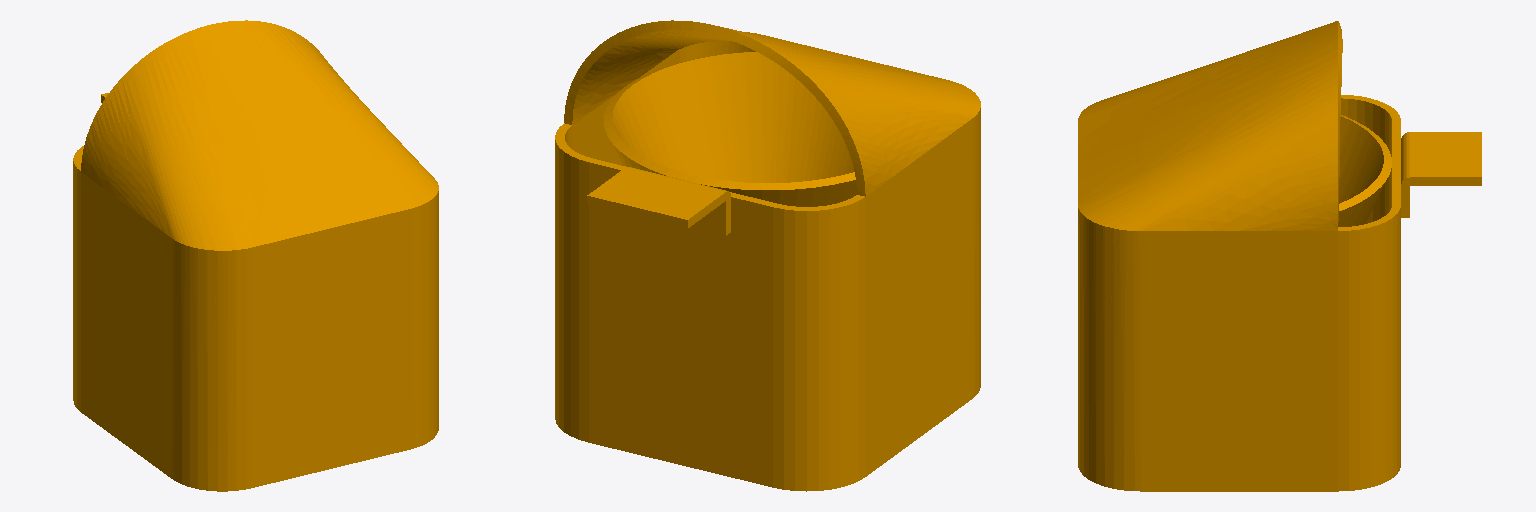
The robot description file, URDF, robot "bin":
<?xml version="1.0"?>

<robot name="bin">

    <link name="base_link" concave="yes">

        <visual>
            <origin xyz="0 0 0" rpy="0 0 0"/>

            <geometry>
                <mesh
                    filename="../meshes/bin.stl"
                    scale="0.01 0.01 0.01"/>
            </geometry>
        </visual>

        <collision concave="yes">
            <origin xyz="0 0 0" rpy="0 0 0"/>

            <geometry>
                <mesh
                    filename="../meshes/bin.stl"
                    scale="0.01 0.01 0.01"/>
            </geometry>
        </collision>

    </link>

</robot>

--- Facts derived from the render (not from the file) ---
Views: 3 orthographic renders of the robot side by side, from view 1: azimuth 30°, elevation 25°; view 2: azimuth 150°, elevation 25°; view 3: azimuth 270°, elevation 25°.
Model bin with 1 links and 0 joints (none), rooted at base_link, posed all joints at 0.
Links seen in each view (by area): view 1: base_link; view 2: base_link; view 3: base_link.
Boxes of the visible links, x1,y1,x2,y2 form: base_link: (73,20,438,491); base_link: (555,20,980,491); base_link: (1078,21,1481,491).
Bounding box of the posed robot: 1.8 × 2.25 × 2.37 m (x, y, z).
Meshes: 1 distinct files referenced, 1 mesh visuals loaded (1 binary STL).
